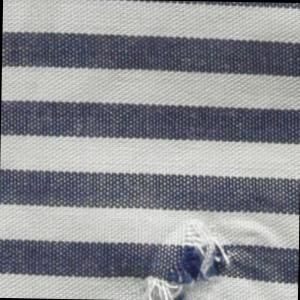Damage: (138, 213, 291, 300)
